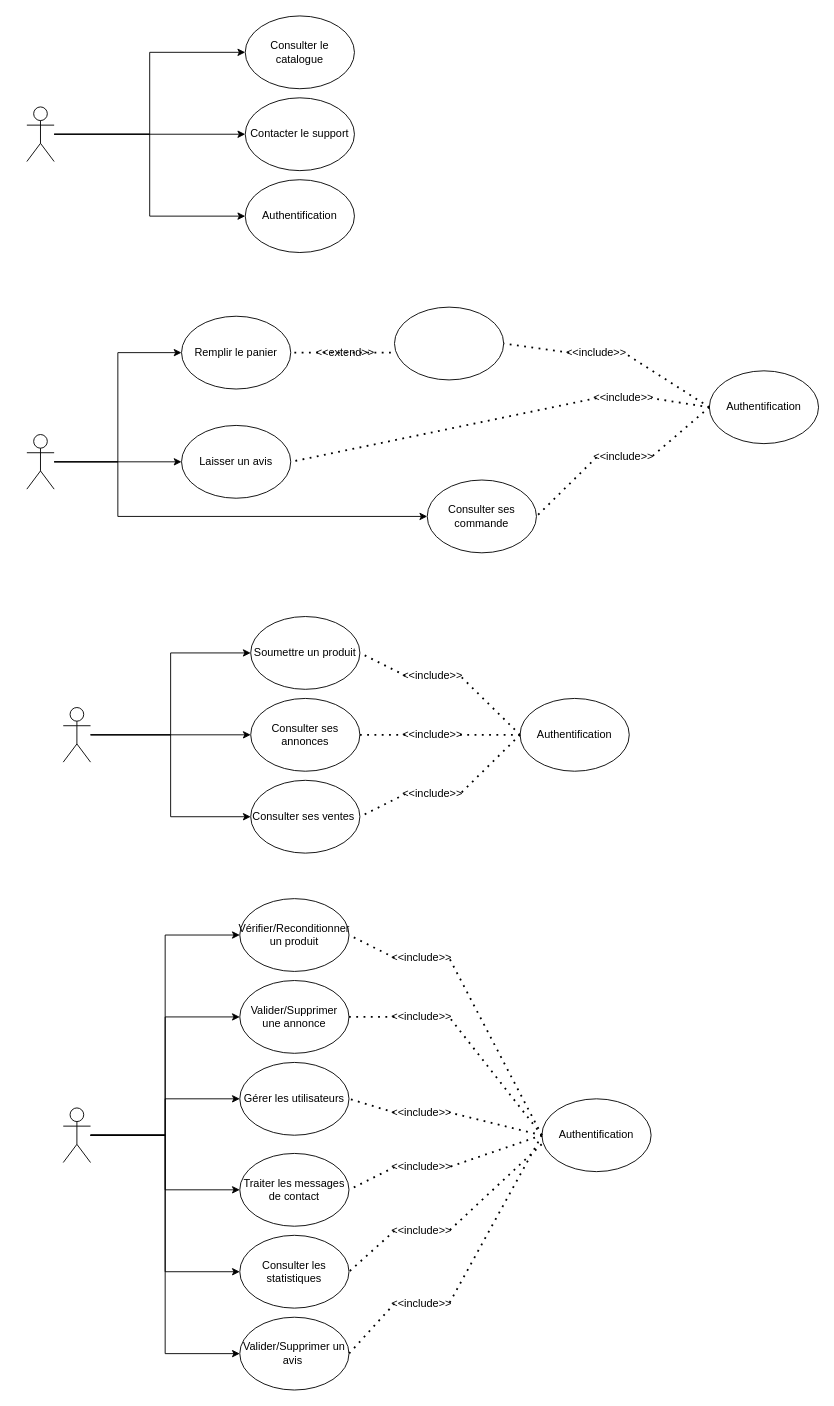
The diagram is 834 pixels wide and 1406 high, and some of its shapes have lost their labels. The shapes that lost their labels are listed below. From the top down, each one's centre as x and y in pixels, then its label:
At point (40, 134): "Utilisateur non authentifié".
At point (449, 343): "Passer une commande".
At point (40, 461): "Buyer".
At point (76, 734): "Seller".
At point (76, 1135): "Admin".
